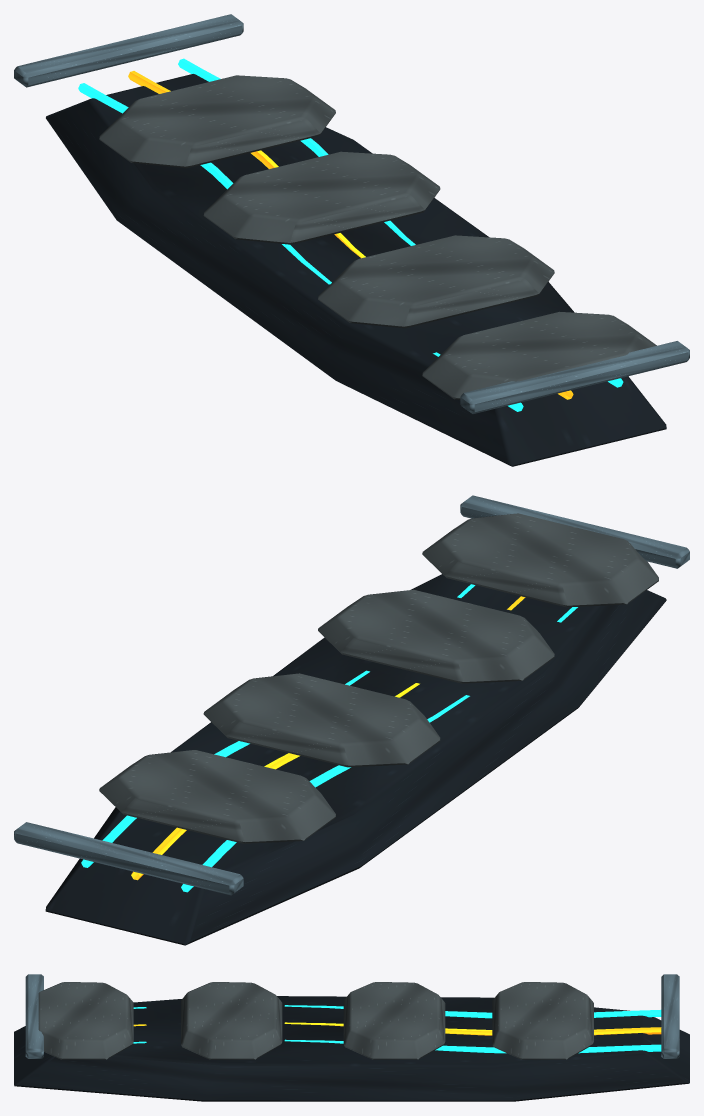
File: Service_Trench_V3.fbx
3 views of the same model, one above another, from view 1: azimuth 30°, elevation 25°; view 2: azimuth 150°, elevation 25°; view 3: azimuth 270°, elevation 25° (orthographic). The views are drawn at different scales.
Parts seen in each view (by area): view 1: Service_Trench_V3; view 2: Service_Trench_V3; view 3: Service_Trench_V3.
Part boxes in pixels (<box>): Service_Trench_V3: <box>14,14,689,466</box>; Service_Trench_V3: <box>14,495,689,945</box>; Service_Trench_V3: <box>14,974,689,1101</box>.
Bounding box in the file's own units: 1.43 × 0.3822 × 4.78.
